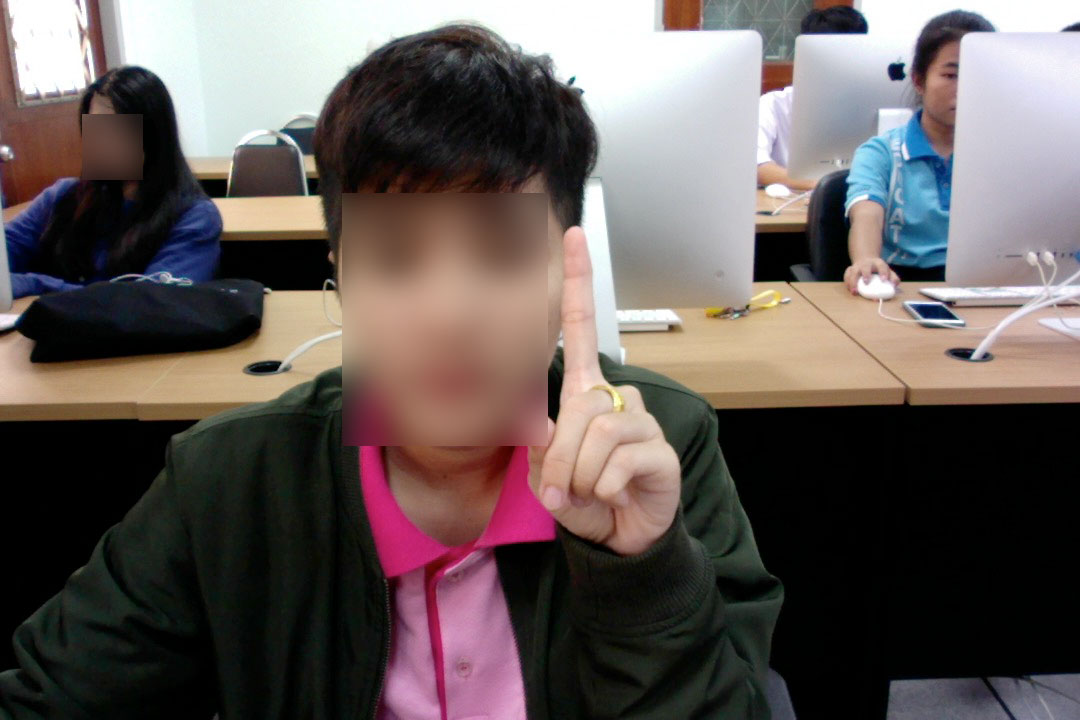dor: (509, 219, 685, 550)
